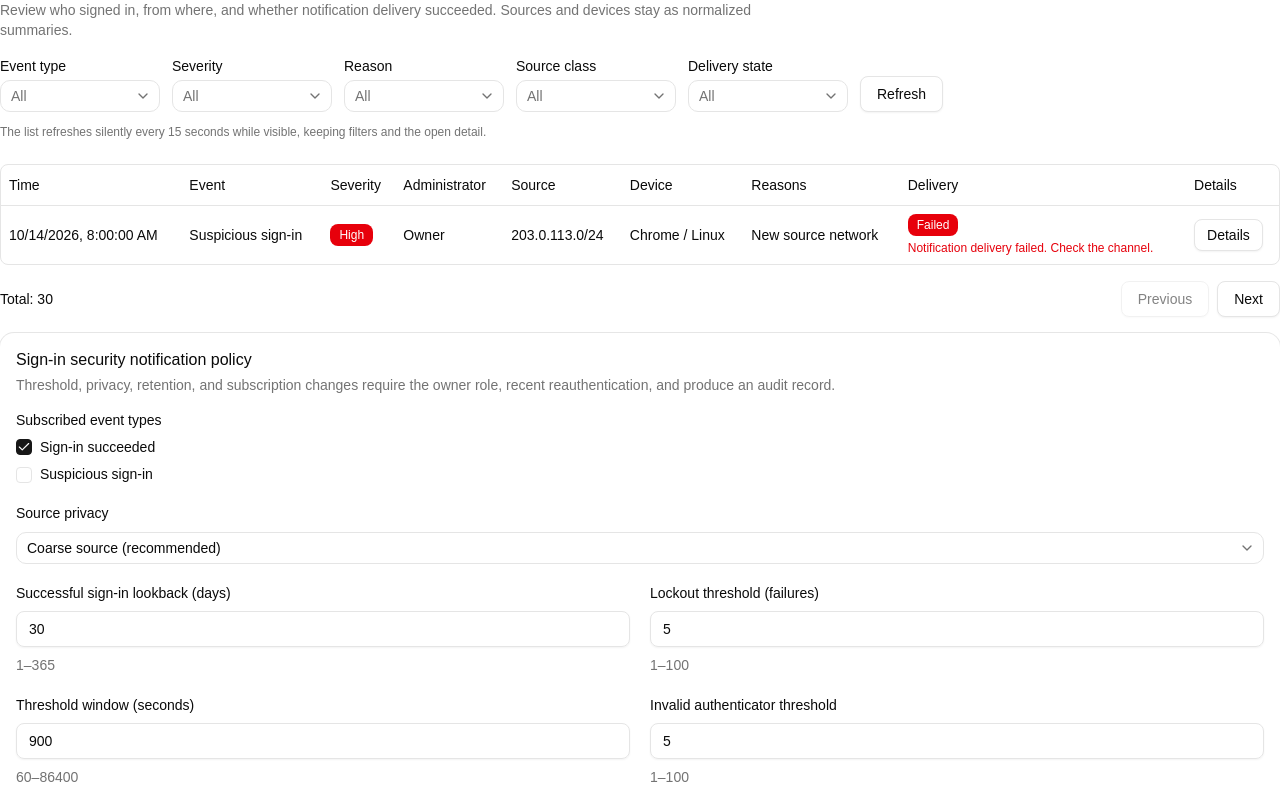
Test case: sign-in security events console › inspects delivery evidence and records an acknowledgement
Click the button with aria-label "Details: Suspicious sign-in": x=1228, y=234 [1194,218,1263,250]
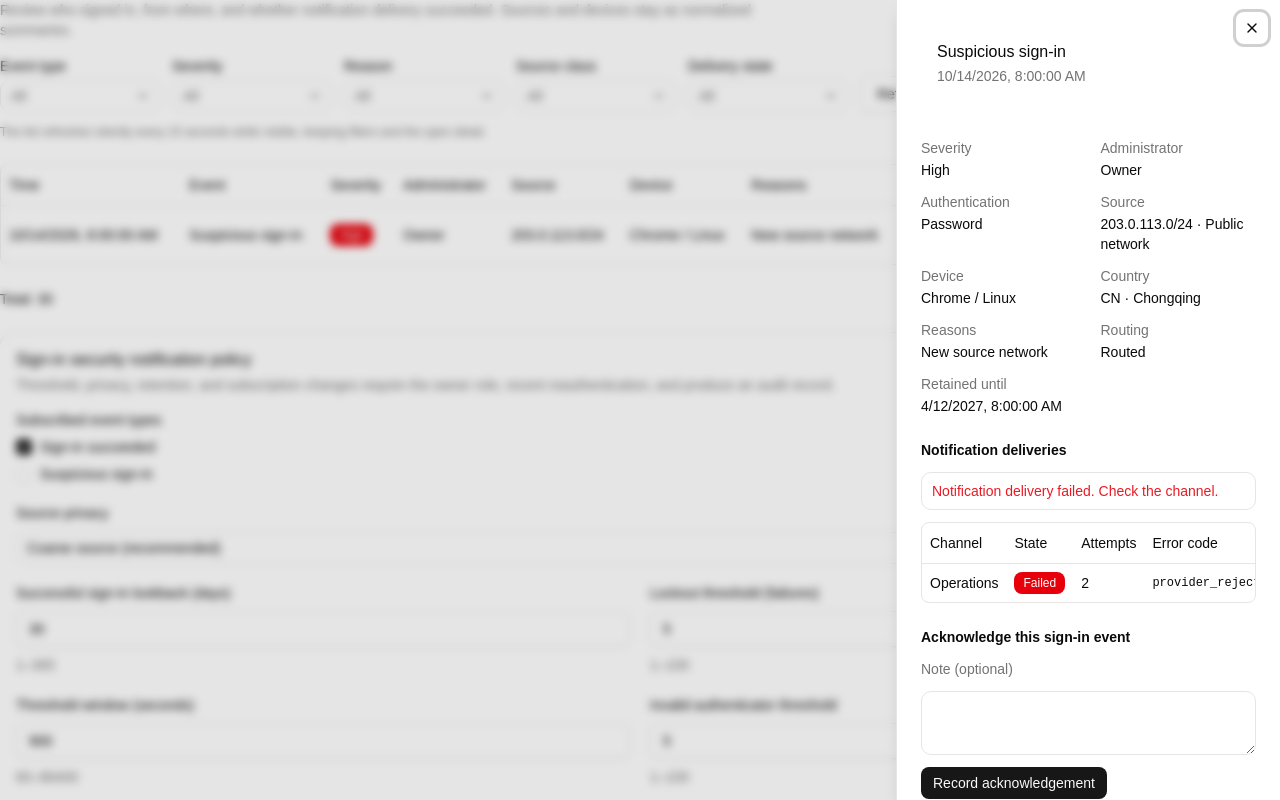
Now the text "Operations" is shown, box [922,563,1006,602]
Now the text "Notification delivery failed. Check the channel." is shown, box [932,481,1245,501]
Now the text "provider_rejected" is shown, box [1144,563,1255,602]
In the text box labelled "Note (optional)": x=1088, y=722 [921,690,1256,754], type "investigated"
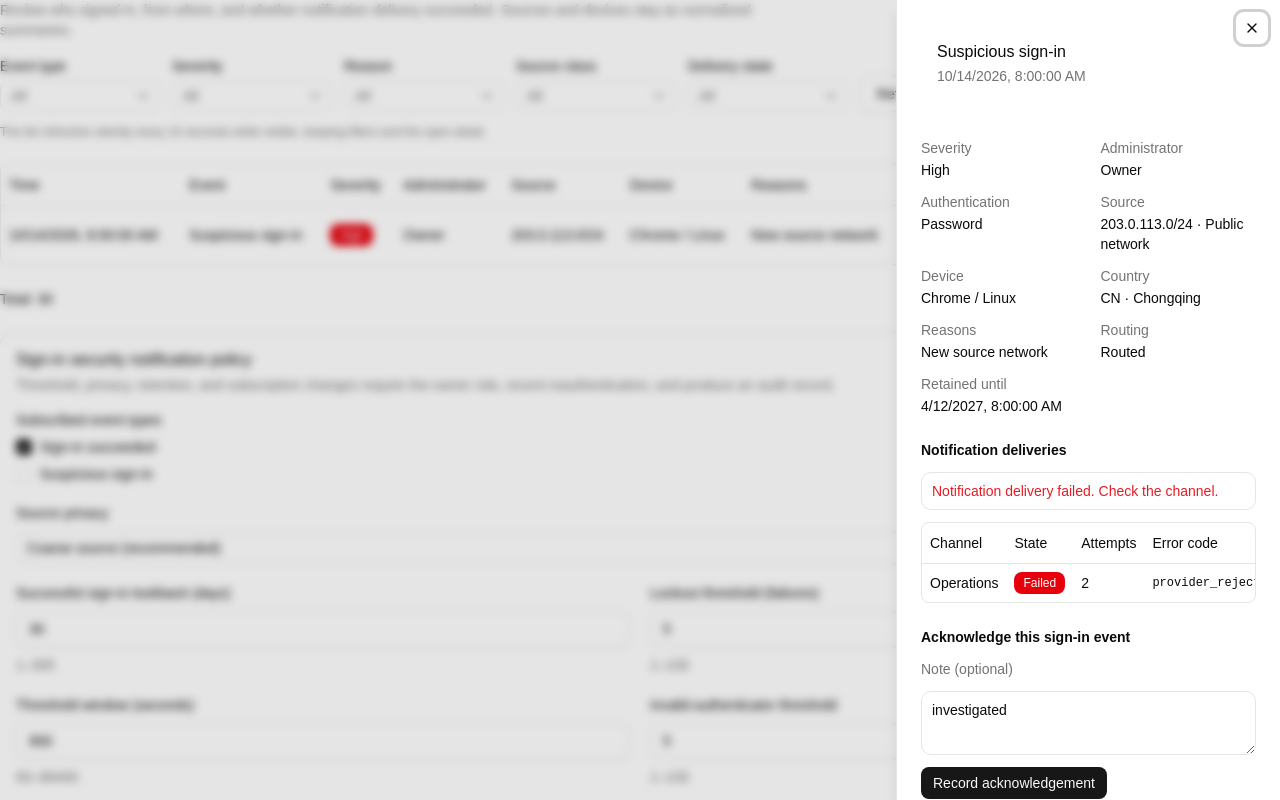
Click the button "Record acknowledgement": x=1014, y=782 [921,766,1107,798]
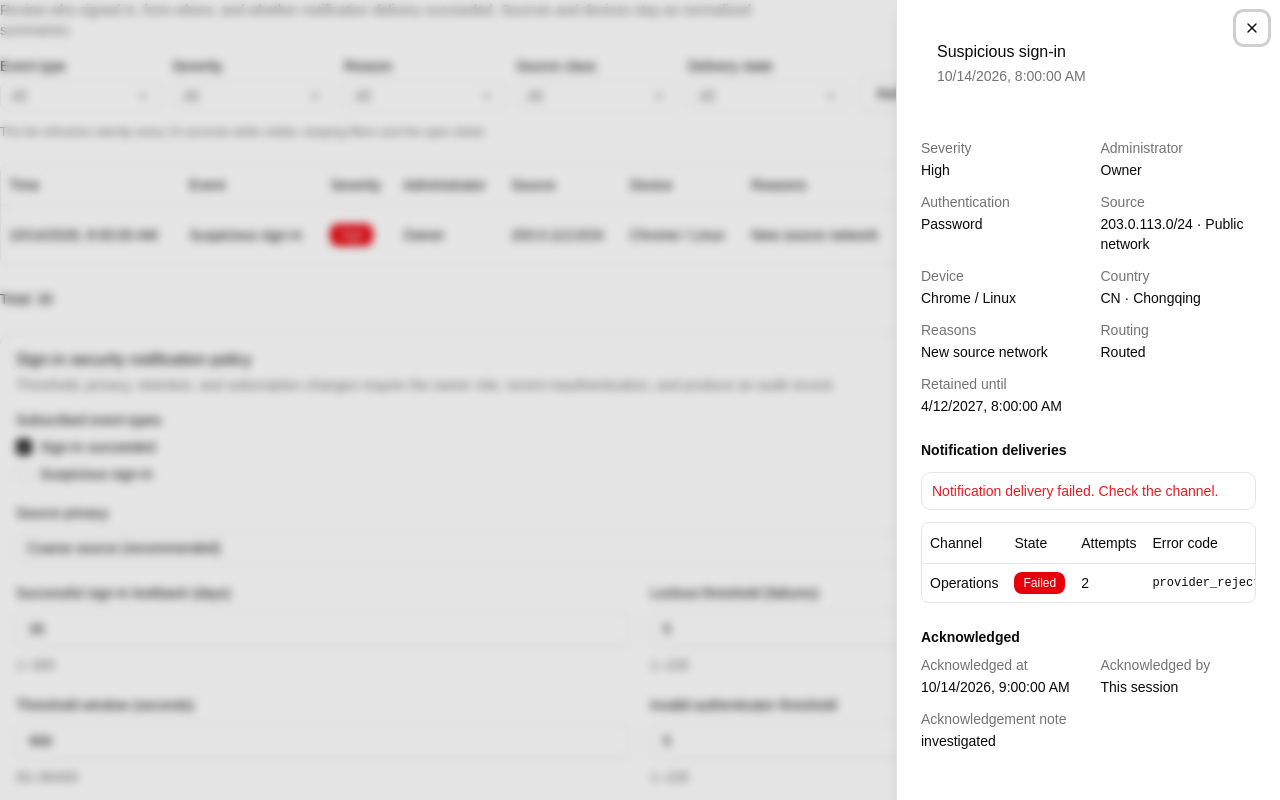
Now the heading "Acknowledged" is shown, box [921,628,1020,644]
Now the text "investigated" is shown, box [921,732,996,748]
